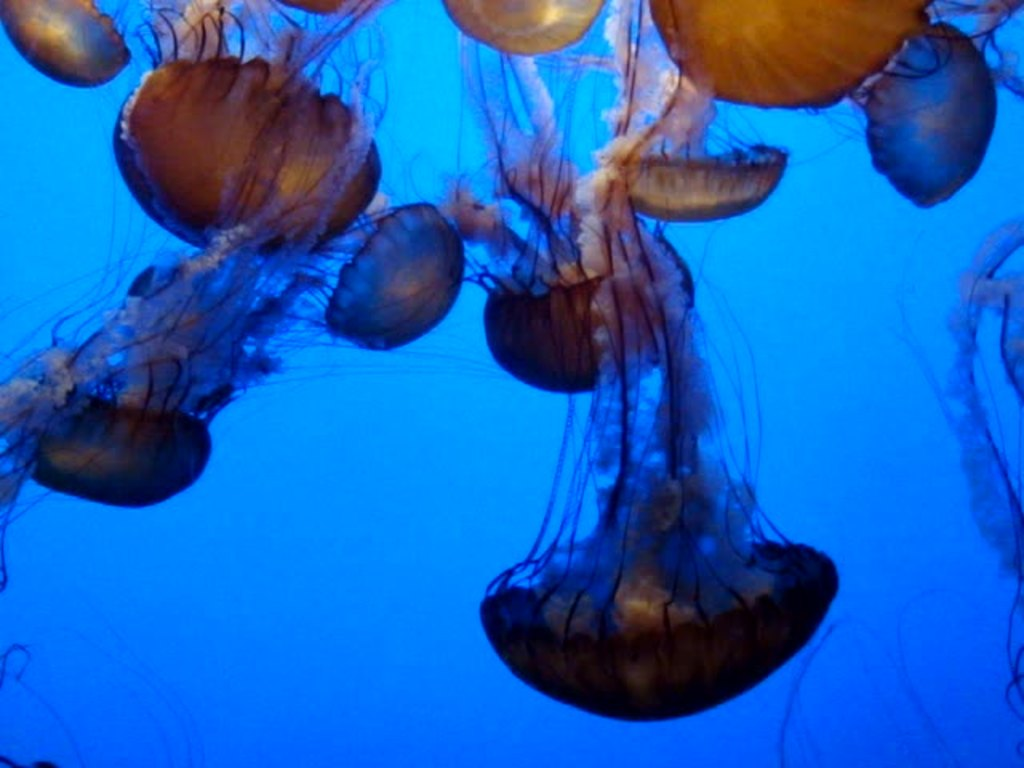Jellyfish: (0, 0, 1022, 721), (14, 38, 419, 523), (105, 0, 384, 259)
